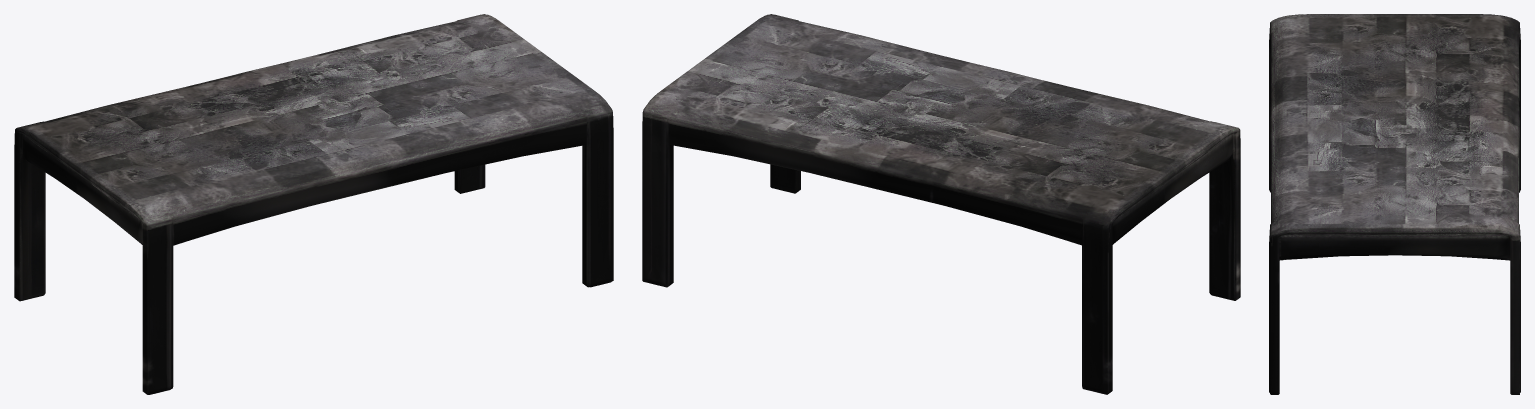
File: Coffee_Brown_FauxMarbel_20InchesTall_0222193156_texture.glb
3 views of the same model, side by side, from view 1: azimuth 30°, elevation 25°; view 2: azimuth 150°, elevation 25°; view 3: azimuth 270°, elevation 25° (orthographic). The views are drawn at different scales.
Visible parts, largest first — view 1: Mesh_0; view 2: Mesh_0; view 3: Mesh_0.
Boxes of the visible parts, x1=… form: Mesh_0: x1=14, y1=14, x2=613, y2=394; Mesh_0: x1=642, y1=14, x2=1240, y2=394; Mesh_0: x1=1269, y1=14, x2=1520, y2=394.
Bounding box in the file's own units: 1.4 × 0.508 × 0.6917.
Materials: 1 (1 with a texture image).
